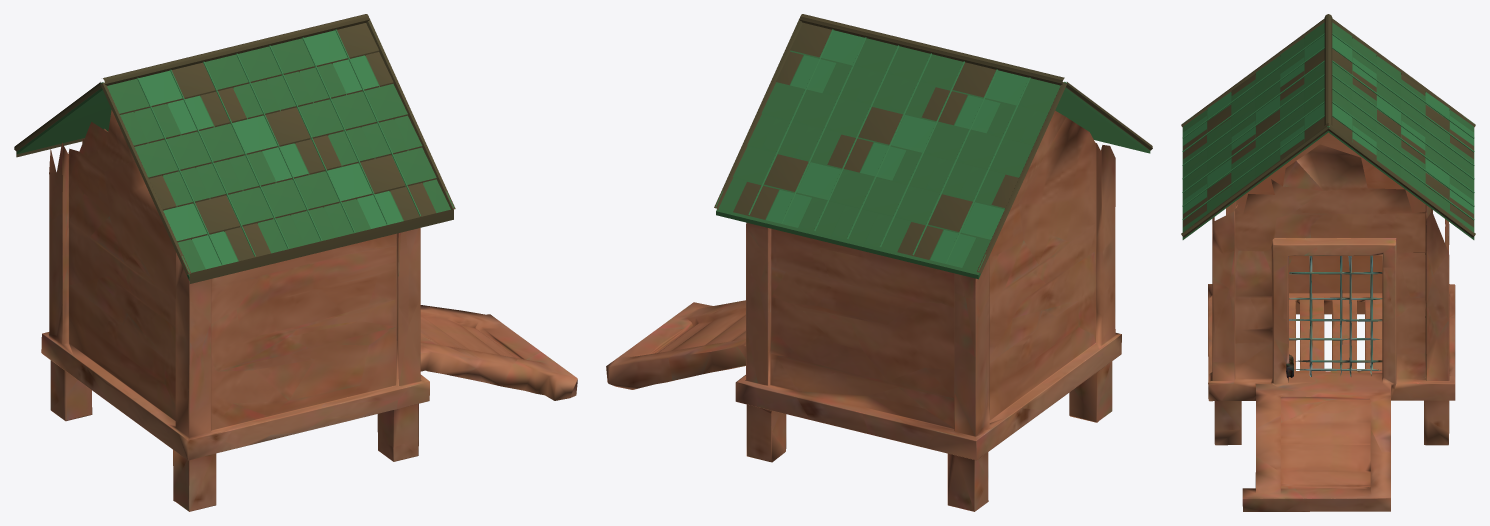
Rendered from coop.baseline.glb.
The picture shows the model from 3 angles, left to right: view 1: azimuth 30°, elevation 25°; view 2: azimuth 150°, elevation 25°; view 3: azimuth 270°, elevation 25°; orthographic projection. The views are drawn at different scales.
Parts seen in each view (by area): view 1: CoopBody; view 2: CoopBody; view 3: CoopBody.
Part boxes in pixels (x1,y1,x2,y2): CoopBody: (14,14,577,511); CoopBody: (606,14,1152,511); CoopBody: (1181,14,1475,511).
Size of the model in its own units: 3 by 2.61 by 2.12.
Materials: 1 (1 with a texture image).
